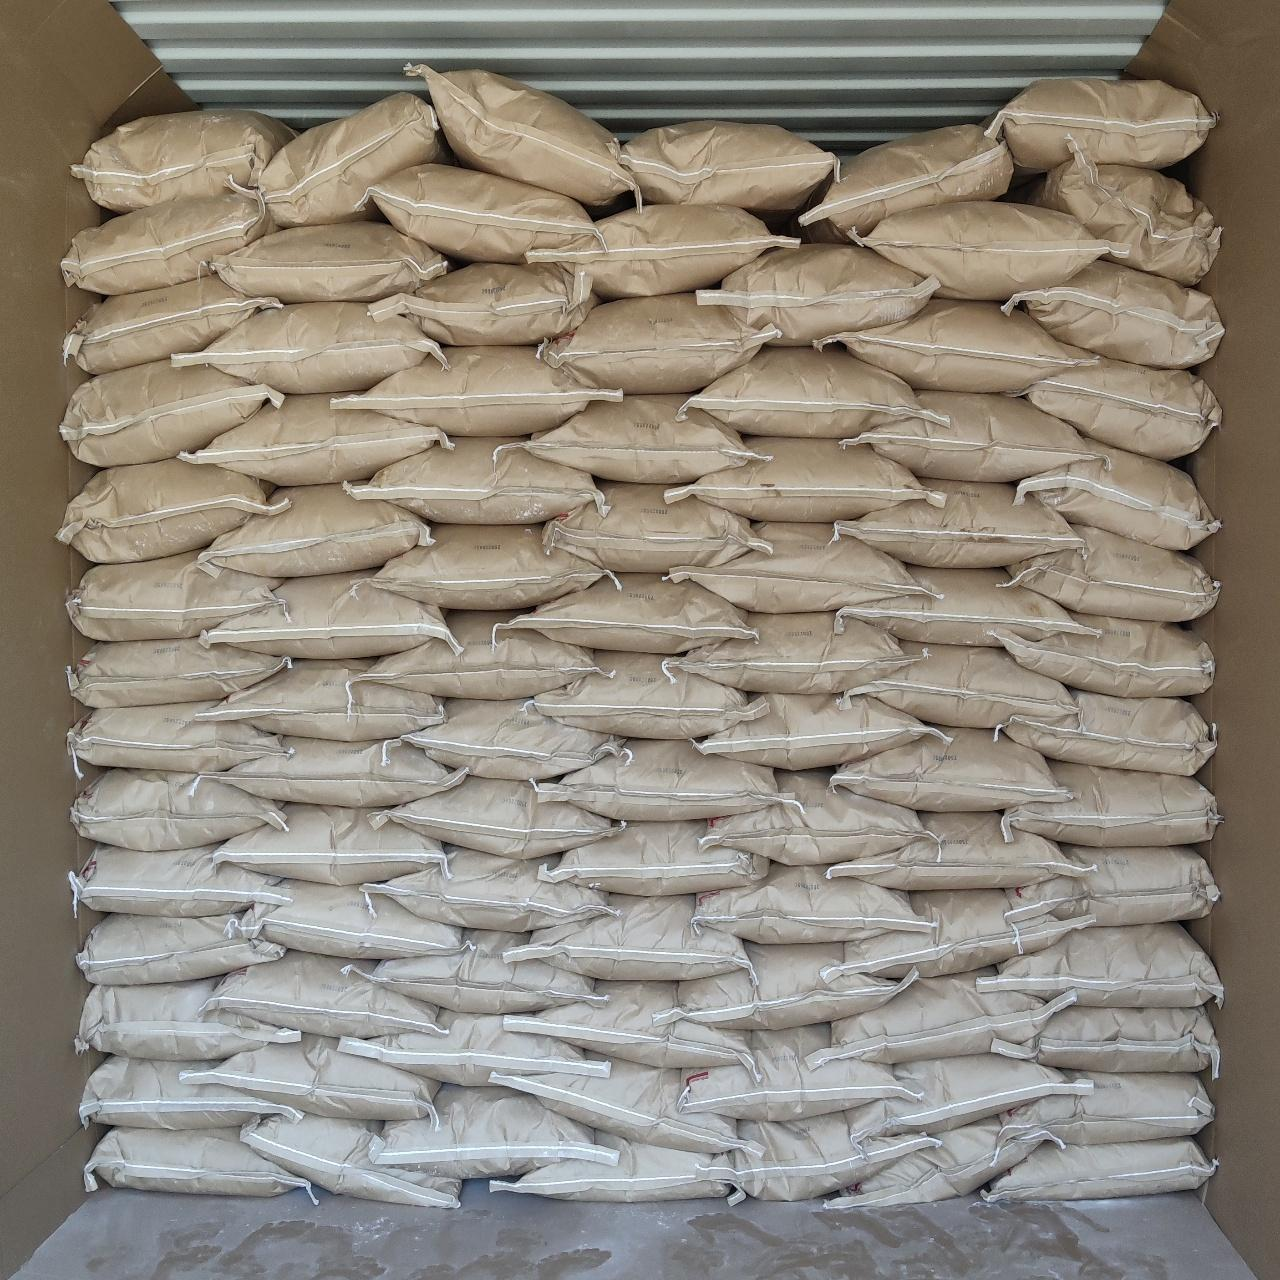sack: (408, 64, 636, 207), (227, 91, 438, 227), (847, 200, 1131, 300), (491, 1060, 764, 1160), (813, 299, 1098, 393), (332, 346, 622, 436), (806, 972, 1075, 1069), (1039, 138, 1219, 282), (171, 302, 449, 394), (177, 394, 454, 485), (526, 205, 799, 298), (798, 124, 1012, 241), (678, 348, 949, 440), (821, 891, 1092, 982), (493, 394, 763, 485), (668, 522, 938, 613), (503, 983, 758, 1080), (57, 457, 290, 563), (59, 359, 284, 467), (537, 293, 779, 393), (697, 245, 939, 343), (1002, 260, 1223, 368), (665, 437, 944, 520), (652, 942, 919, 1029), (843, 392, 1099, 482), (367, 164, 601, 263), (369, 1085, 618, 1178), (679, 1024, 917, 1121), (829, 478, 1082, 568), (72, 111, 294, 212), (200, 572, 459, 658), (503, 892, 754, 980), (352, 612, 599, 700), (700, 772, 934, 865), (202, 951, 448, 1039), (200, 484, 434, 577), (987, 79, 1214, 173), (182, 1036, 440, 1119), (845, 1055, 1092, 1142), (61, 193, 270, 295), (343, 440, 599, 523), (697, 1114, 939, 1201), (833, 566, 1099, 646), (342, 930, 597, 1013), (492, 574, 757, 654), (830, 727, 1076, 812), (536, 741, 799, 821), (372, 525, 620, 610), (362, 847, 611, 932), (1001, 526, 1219, 622), (826, 812, 1097, 890), (525, 652, 767, 738), (607, 121, 836, 212), (64, 278, 281, 374), (543, 482, 769, 573), (978, 922, 1223, 1007), (339, 1009, 610, 1085), (662, 612, 913, 694), (1016, 447, 1218, 549), (368, 777, 618, 859), (1024, 356, 1220, 459), (197, 660, 444, 741), (826, 1121, 1054, 1208), (240, 1117, 457, 1207), (211, 222, 449, 302), (692, 864, 937, 942), (696, 694, 951, 769), (212, 804, 448, 885), (851, 642, 1076, 727), (1002, 761, 1223, 846), (368, 263, 598, 345), (386, 700, 621, 779), (67, 551, 279, 639), (992, 614, 1214, 697), (74, 978, 299, 1060), (202, 737, 464, 806), (227, 880, 461, 958), (1003, 690, 1217, 775), (86, 1126, 318, 1204), (72, 769, 287, 850), (1005, 845, 1219, 926), (539, 821, 769, 896), (490, 1131, 728, 1201), (67, 702, 285, 777), (79, 1056, 302, 1129), (67, 636, 288, 708), (999, 1073, 1213, 1145), (70, 845, 290, 915), (992, 1006, 1217, 1073), (980, 1141, 1217, 1201), (77, 914, 282, 985)
